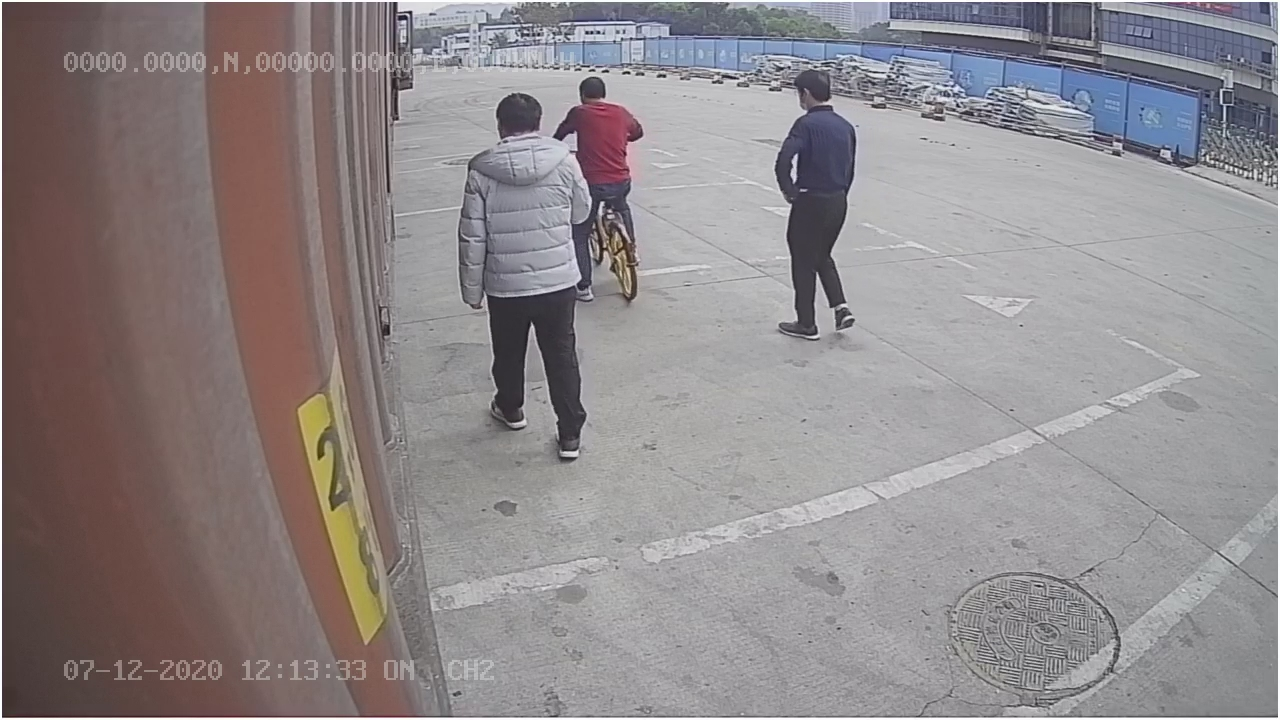person: (769, 69, 858, 340)
